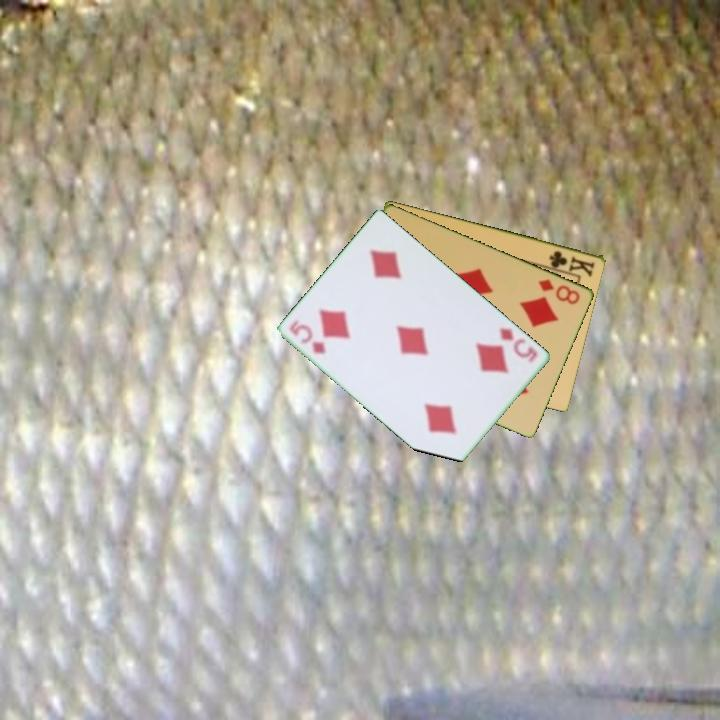5d: (497, 324, 541, 365), (286, 316, 329, 357)
8d: (535, 275, 583, 307)
Kc: (546, 247, 598, 279)
